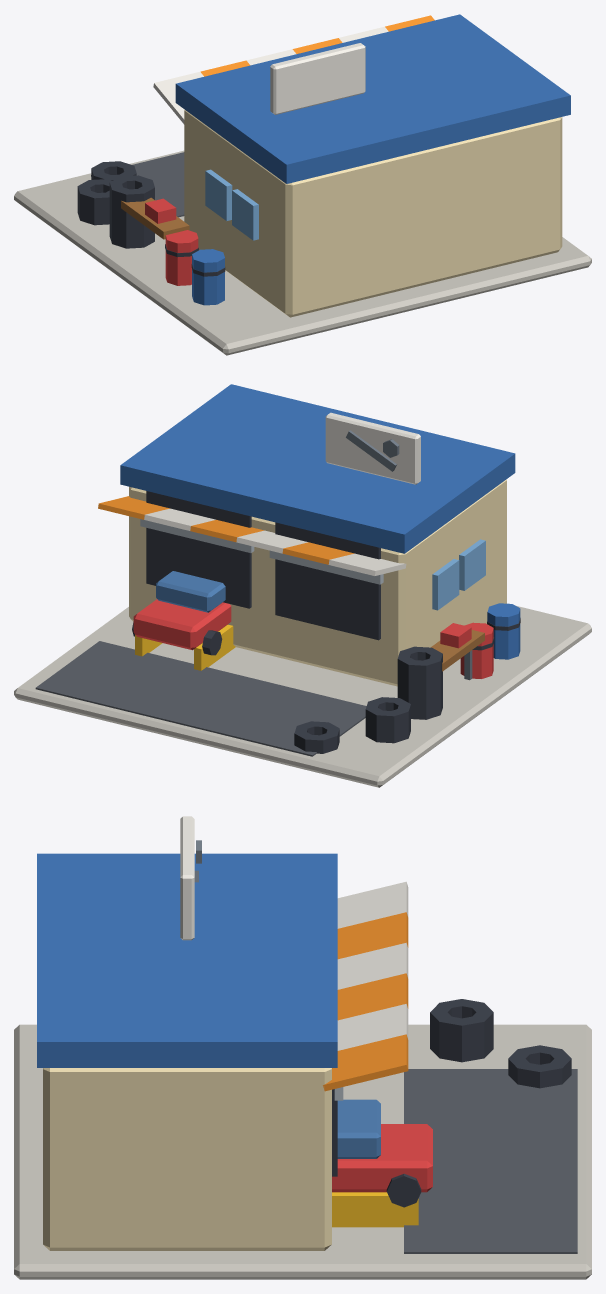
Rendered from kit-cidade-oficina.glb.
3 views of the same model, one above another, from view 1: azimuth 30°, elevation 25°; view 2: azimuth 150°, elevation 25°; view 3: azimuth 270°, elevation 25° (orthographic). The views are drawn at different scales.
Parts seen in each view (by area): view 1: corpo; view 2: corpo; view 3: corpo.
Boxes of the visible parts, left/top/right/bottom form: corpo: left=14, top=14, right=591, bottom=355; corpo: left=14, top=384, right=591, bottom=787; corpo: left=14, top=816, right=591, bottom=1279.
Bounding box in the file's own units: 2 × 1.13 × 2.
